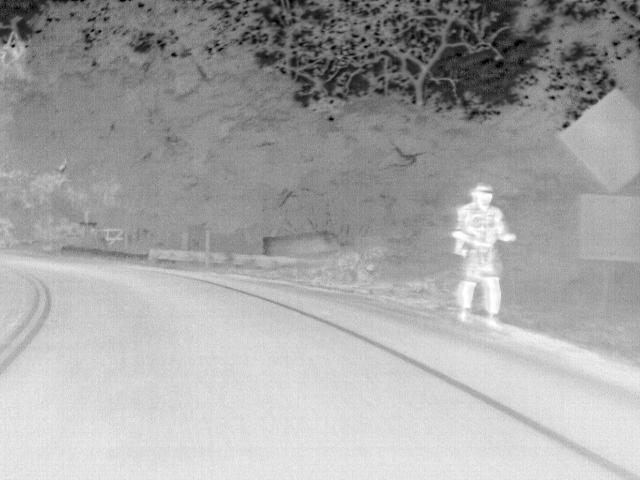person: (451, 182, 517, 327)
